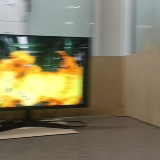fire: (1, 37, 89, 107)
